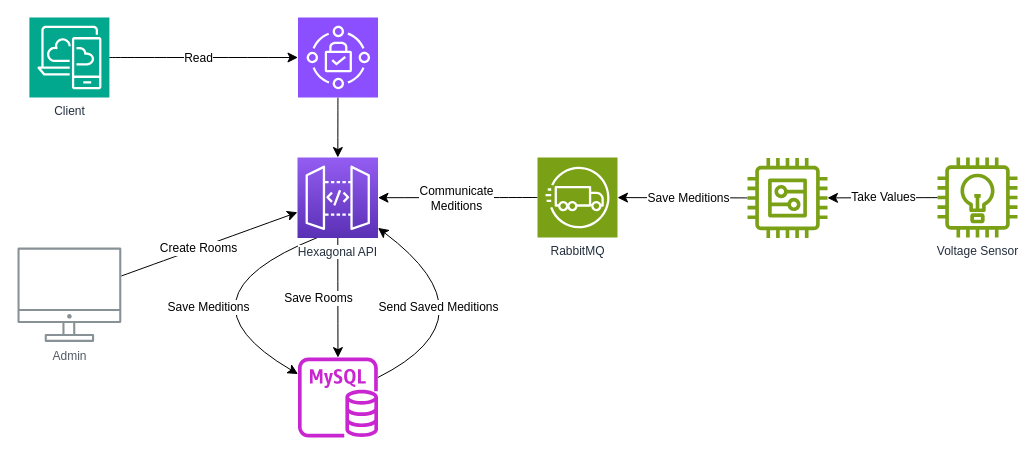
This 1035x476 diagram has some shape labels left out. The centre of each missing label's shape, as x and y in pixels:
"Authentication" goes at pixel 337 57.
"DB RDS" goes at pixel 338 397.
"ESP32" goes at pixel 787 198.
